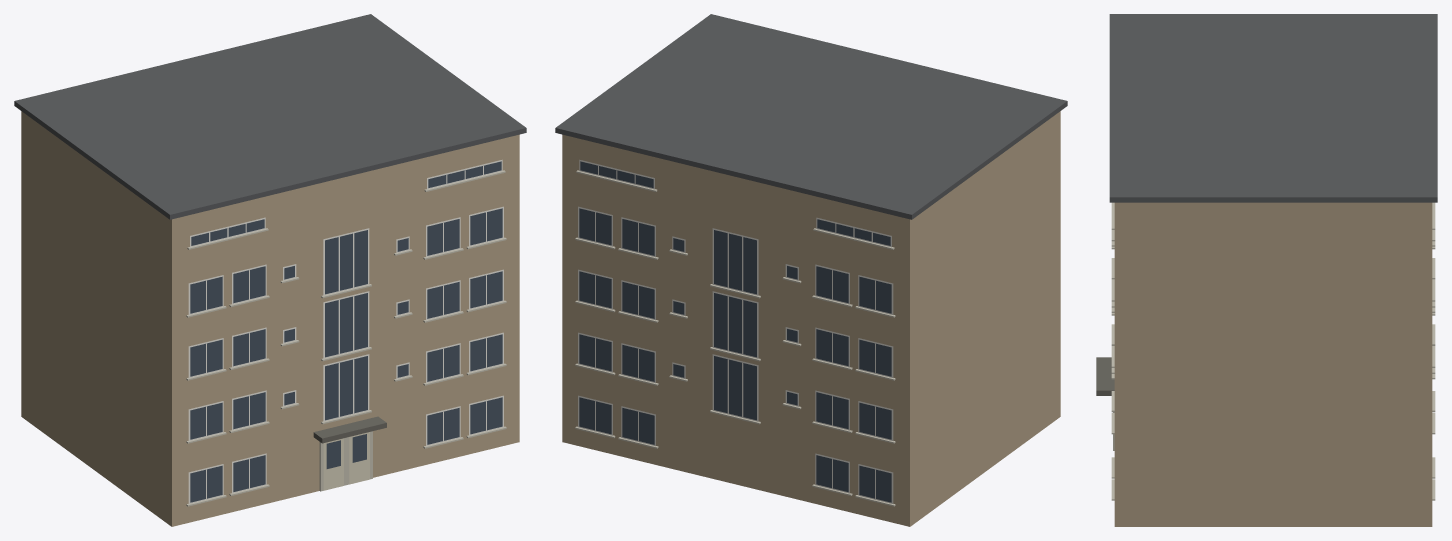
File: nw-glazed-tower-buff-flat__buff-brick__5__flat__long__solid.glb
The picture shows the model from 3 angles, left to right: view 1: azimuth 30°, elevation 25°; view 2: azimuth 150°, elevation 25°; view 3: azimuth 270°, elevation 25°; orthographic projection. The views are drawn at different scales.
Visible parts, largest first — view 1: nw-glazed-tower-buff-flat__buff-brick__5__flat__long__solid; view 2: nw-glazed-tower-buff-flat__buff-brick__5__flat__long__solid; view 3: nw-glazed-tower-buff-flat__buff-brick__5__flat__long__solid.
Part boxes in pixels (<box>): nw-glazed-tower-buff-flat__buff-brick__5__flat__long__solid: <box>14,14,526,526</box>; nw-glazed-tower-buff-flat__buff-brick__5__flat__long__solid: <box>555,14,1067,526</box>; nw-glazed-tower-buff-flat__buff-brick__5__flat__long__solid: <box>1096,14,1437,526</box>.
Bounding box in the file's own units: 16.54 × 13.96 × 13.01.
